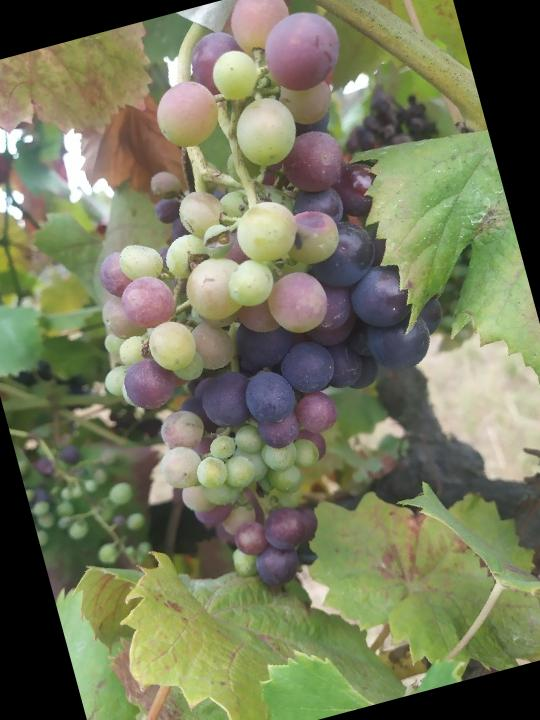grape: (21, 0, 498, 614)
